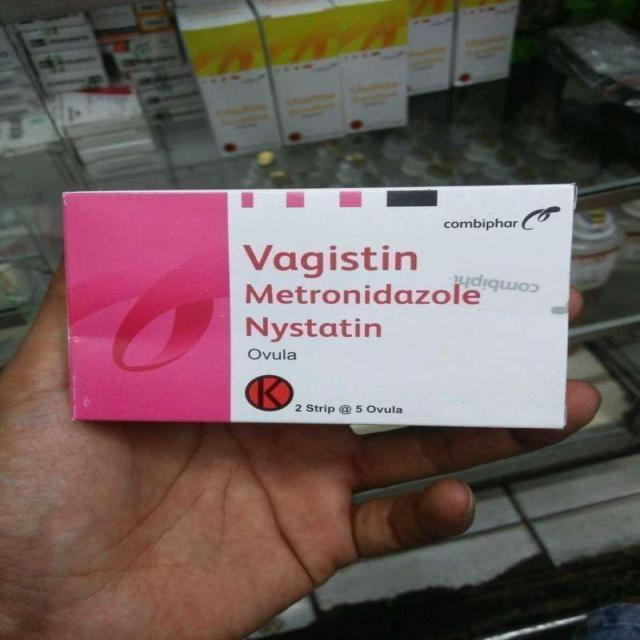drug-name: (236, 237, 422, 280)
